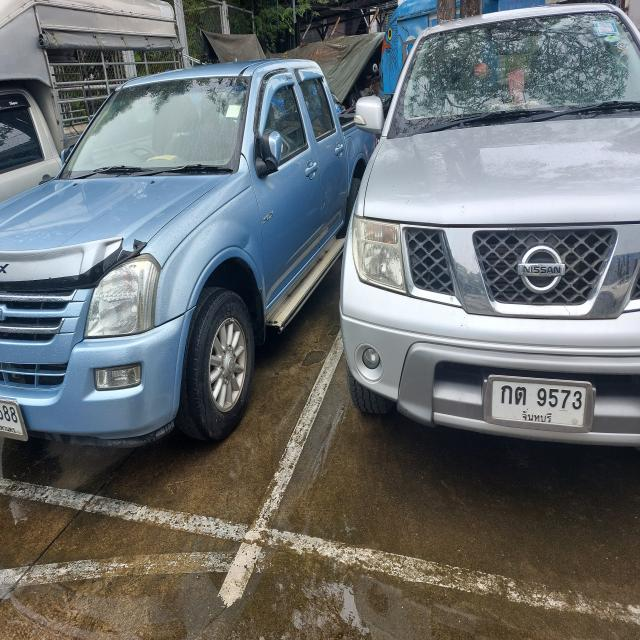license_plate: (482, 370, 596, 438)
